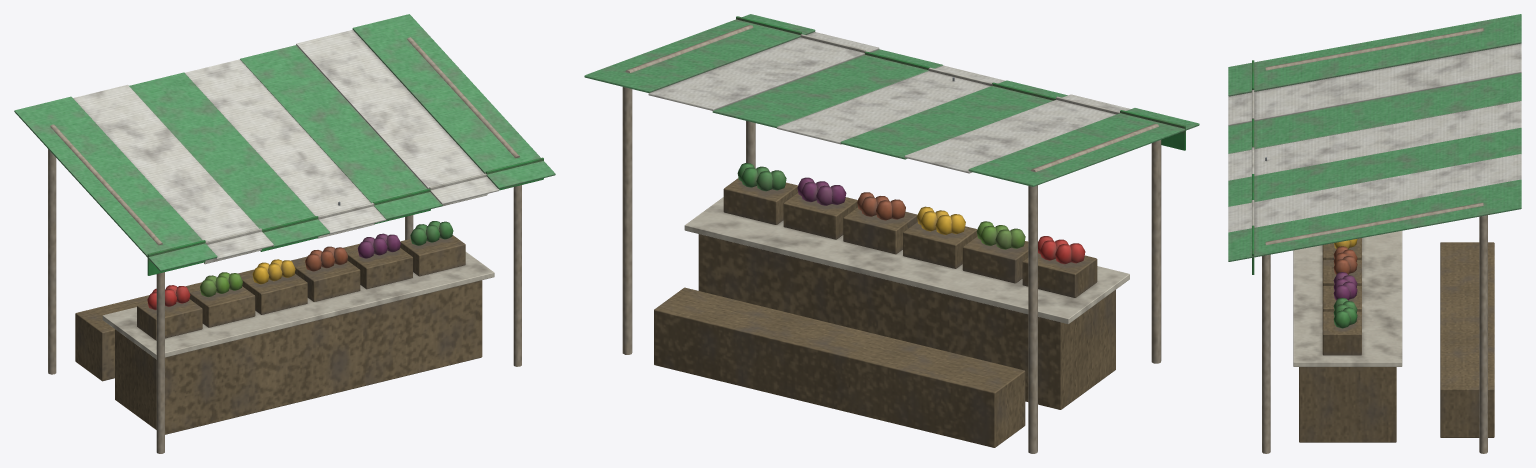
Rendered from bazar_stoisko_2.glb.
3 renders of one model, left to right at view 1: azimuth 30°, elevation 25°; view 2: azimuth 150°, elevation 25°; view 3: azimuth 270°, elevation 25°, orthographic. The views are drawn at different scales.
Parts seen in each view (by area): view 1: Stoisko; view 2: Stoisko; view 3: Stoisko.
Boxes of the visible parts, x1,y1,x2,y2 form: Stoisko: [14, 14, 555, 453]; Stoisko: [584, 14, 1199, 453]; Stoisko: [1228, 14, 1521, 453].
Size of the model in its own units: 4.21 by 2.58 by 2.7.
1 material, 1 textured.
